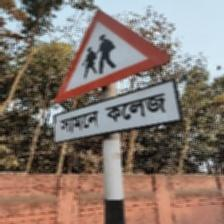College-in-front: (50, 21, 204, 158)
